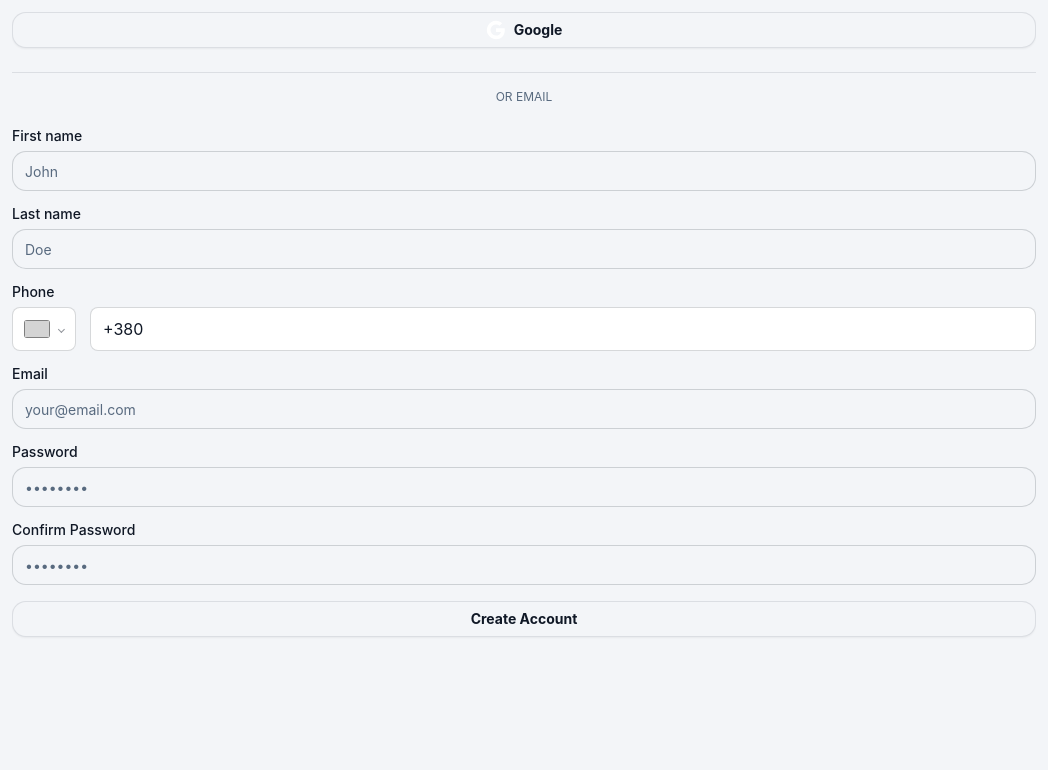
Test: RegisterForm › should display validation errors for empty fields
Click the button "Create Account" at (524, 619), box [12,601,1036,637]
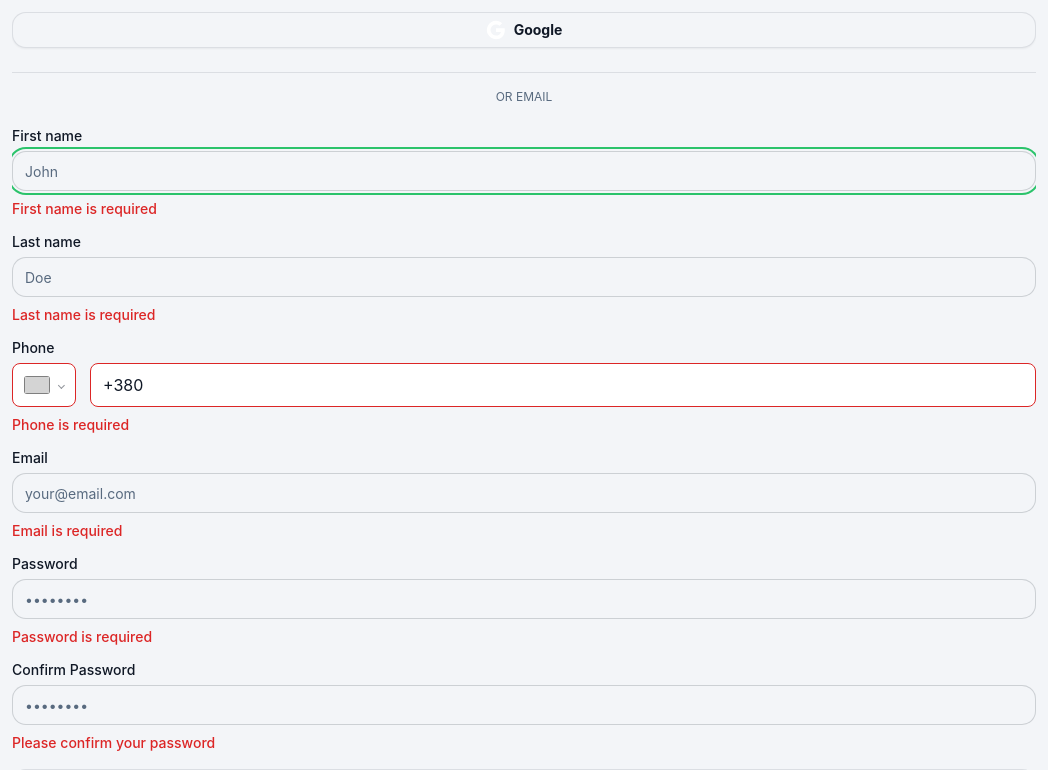
Result: the text "First name is required" is shown at [12,200,157,217]
